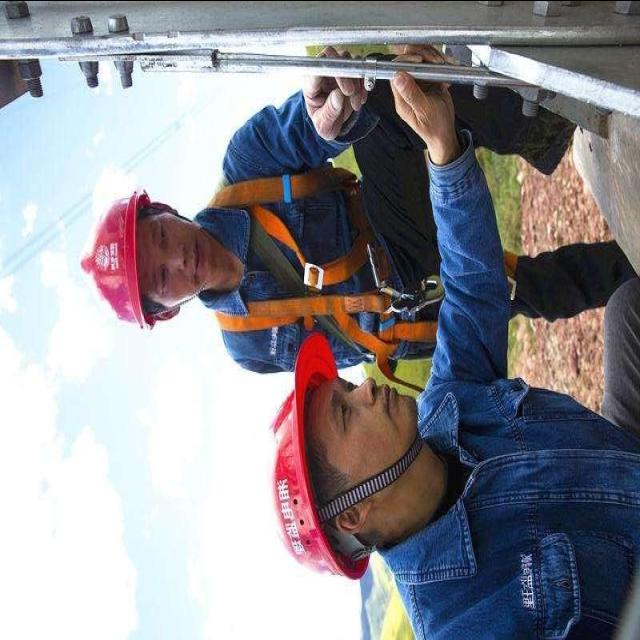helmet: (247, 328, 369, 594), (79, 168, 153, 343)
